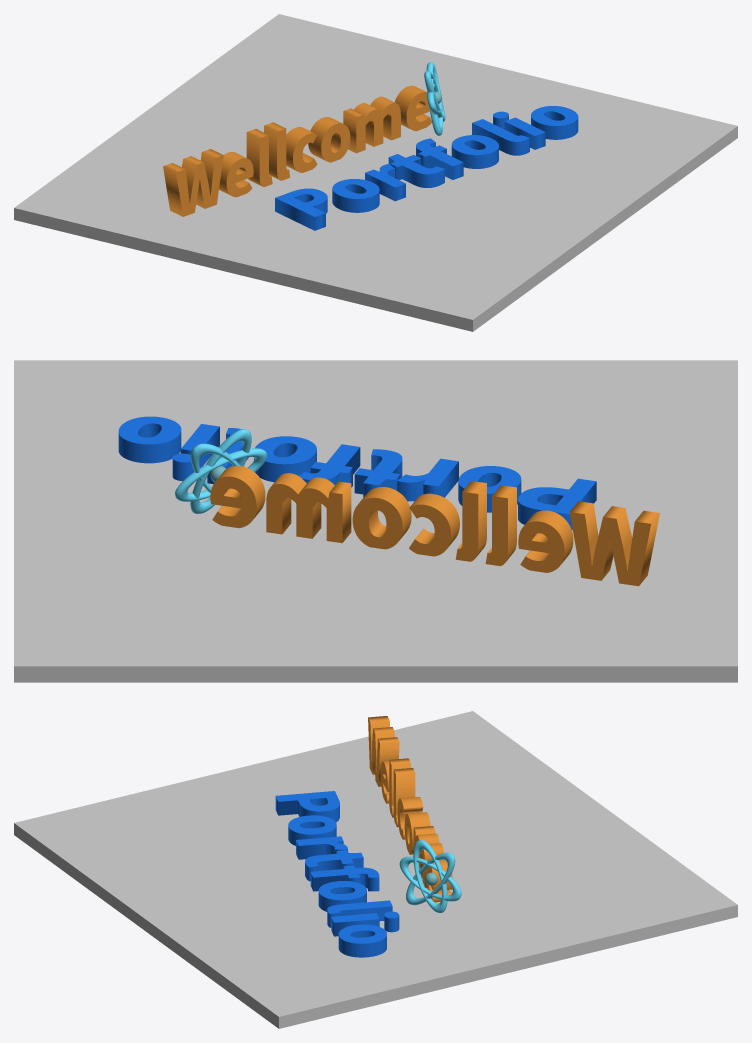
File: wellcome.gltf
3 views of the same model, one above another, from view 1: azimuth 30°, elevation 25°; view 2: azimuth 150°, elevation 25°; view 3: azimuth 270°, elevation 25° (orthographic). The views are drawn at different scales.
Parts seen in each view (by area): view 1: Cube, Wellcome, Portfolio; view 2: Cube, Wellcome, Portfolio, reactLine3, reactLine2, reactLine1; view 3: Cube, Portfolio, Wellcome, reactLine2, reactLine3, reactLine1.
Boxes of the visible parts, x1,y1,x2,y2 form: Cube: (14, 14, 737, 331); Wellcome: (163, 85, 431, 216); Portfolio: (275, 106, 578, 230); Cube: (14, 360, 737, 682); Wellcome: (210, 465, 659, 586); Portfolio: (118, 416, 596, 529); reactLine3: (175, 448, 266, 501); reactLine2: (190, 429, 251, 513); reactLine1: (190, 443, 240, 492); Cube: (14, 711, 737, 1028); Portfolio: (275, 791, 399, 957); Wellcome: (368, 716, 452, 902); reactLine2: (413, 840, 447, 912); reactLine3: (399, 856, 461, 901); reactLine1: (406, 852, 455, 905).
Size of the model in its own units: 10.93 by 1.2 by 10.93.
